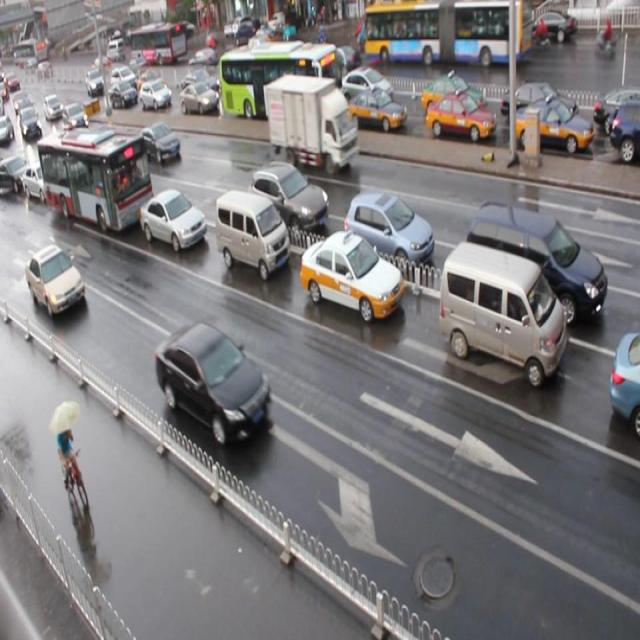bus: (266, 72, 359, 172)
car: (153, 320, 274, 447), (299, 228, 402, 322), (344, 194, 434, 276), (250, 161, 330, 237), (514, 99, 594, 158), (23, 244, 85, 318), (138, 187, 206, 252), (425, 92, 496, 143), (502, 82, 576, 128), (608, 331, 640, 435), (420, 76, 486, 121), (345, 86, 406, 134), (334, 66, 392, 111), (591, 92, 640, 134), (608, 99, 640, 160), (138, 122, 182, 166), (21, 158, 60, 203), (66, 132, 100, 171), (0, 153, 32, 192), (180, 83, 219, 114), (228, 69, 262, 103), (182, 69, 222, 96), (139, 80, 172, 112), (112, 64, 139, 95), (63, 104, 89, 133), (111, 81, 136, 110), (138, 68, 162, 92)
truck: (465, 198, 607, 332), (438, 240, 566, 388), (213, 187, 289, 280)
van: (37, 126, 154, 235), (216, 42, 339, 124)
